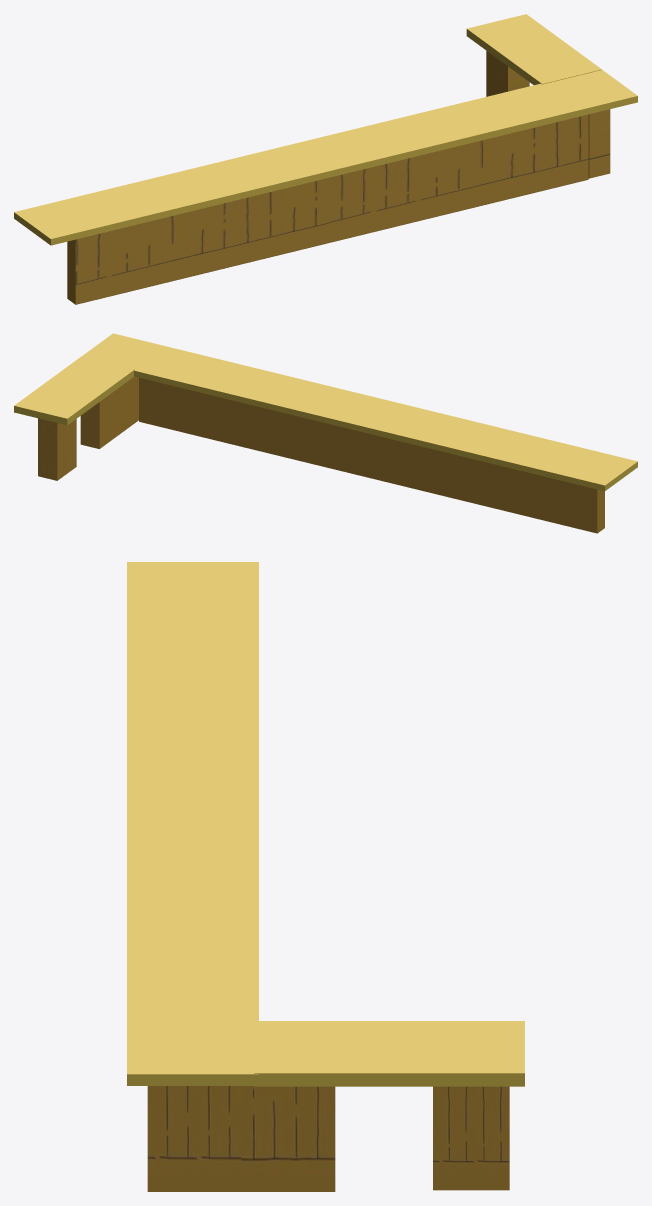
The model's file is barrabien1.obj.
The picture shows the model from 3 angles, top to bottom: view 1: azimuth 30°, elevation 25°; view 2: azimuth 150°, elevation 25°; view 3: azimuth 270°, elevation 25°; orthographic projection. The views are drawn at different scales.
Visible parts, largest first — view 1: polySurface7, polySurface2 barrabien:polySurface1; view 2: polySurface7, polySurface2 barrabien:polySurface1; view 3: polySurface7, polySurface2 barrabien:polySurface1.
Part boxes in pixels (x1,y1,x2,y2): polySurface7: (14, 14, 637, 304); polySurface2 barrabien:polySurface1: (492, 33, 577, 73); polySurface7: (14, 333, 637, 533); polySurface2 barrabien:polySurface1: (37, 371, 114, 407); polySurface7: (127, 562, 524, 1191); polySurface2 barrabien:polySurface1: (336, 1021, 432, 1086).
Bounding box in the file's own units: 14.01 × 1.78 × 4.6.
15 materials, 14 textured.
